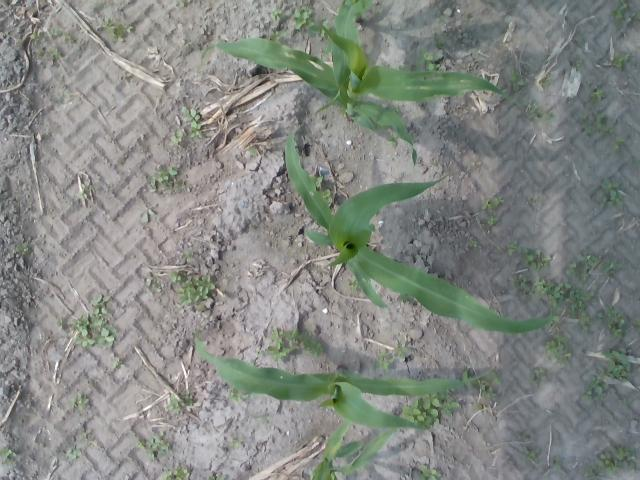Maize: (282, 90, 558, 330), (201, 0, 524, 166), (188, 322, 491, 432), (312, 0, 368, 117), (312, 420, 396, 480)
Weeds: (508, 274, 594, 311), (399, 390, 460, 430), (266, 326, 324, 363), (72, 314, 116, 348), (292, 5, 330, 38), (595, 304, 630, 338), (178, 275, 215, 307), (602, 346, 632, 384), (148, 165, 185, 193), (566, 252, 600, 281), (544, 333, 572, 368), (581, 368, 608, 402), (100, 17, 134, 43), (520, 246, 552, 273), (520, 99, 554, 124), (473, 371, 501, 399), (568, 301, 594, 331), (596, 180, 623, 208), (414, 48, 442, 72), (182, 106, 203, 138), (612, 442, 636, 469), (144, 436, 170, 460), (166, 391, 193, 413), (528, 367, 548, 394), (599, 452, 623, 474), (374, 347, 394, 372), (610, 0, 626, 30), (594, 113, 614, 134), (601, 259, 624, 277), (508, 70, 525, 94), (68, 393, 90, 410), (145, 271, 162, 293), (418, 464, 441, 480), (162, 467, 190, 480), (587, 87, 605, 107), (92, 294, 110, 314), (548, 303, 561, 330), (393, 341, 411, 360), (74, 182, 94, 199), (0, 446, 16, 466), (228, 386, 248, 402), (582, 464, 602, 480), (482, 196, 504, 210), (60, 446, 82, 460), (611, 53, 629, 69), (139, 208, 157, 224), (461, 364, 473, 387), (316, 188, 332, 204), (524, 446, 542, 460), (506, 240, 521, 256), (386, 131, 400, 148), (610, 136, 624, 153), (15, 241, 32, 255), (268, 31, 286, 44), (396, 292, 414, 304), (484, 214, 500, 227), (227, 437, 244, 449), (170, 130, 183, 145), (170, 270, 186, 282), (348, 278, 362, 291), (29, 30, 44, 42), (542, 74, 554, 88), (48, 47, 62, 59), (62, 32, 76, 44), (309, 175, 323, 187), (270, 8, 283, 20), (58, 92, 72, 103), (112, 358, 126, 369), (552, 457, 564, 469), (182, 250, 193, 263), (50, 26, 64, 36), (517, 430, 531, 440), (576, 111, 588, 122), (435, 35, 446, 47), (627, 12, 640, 22), (337, 107, 348, 118), (633, 316, 640, 332), (582, 126, 592, 137), (134, 439, 145, 449), (474, 401, 486, 410), (390, 104, 400, 114), (57, 318, 64, 331), (572, 59, 582, 68), (34, 48, 44, 57), (248, 146, 257, 156), (208, 475, 225, 480), (179, 0, 191, 7), (618, 398, 628, 406), (469, 240, 478, 248), (530, 197, 538, 206), (82, 433, 89, 443), (91, 4, 103, 8)
